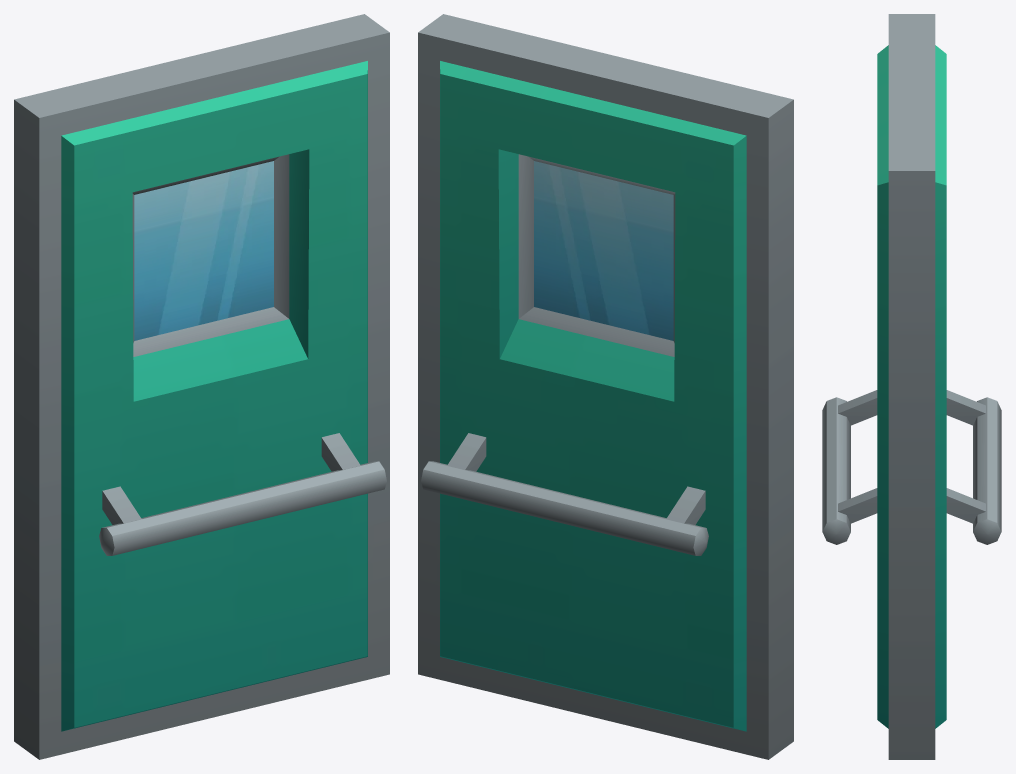
Rendered from cafe-door.glb.
3 renders of one model, left to right at view 1: azimuth 30°, elevation 25°; view 2: azimuth 150°, elevation 25°; view 3: azimuth 270°, elevation 25°, orthographic. The views are drawn at different scales.
Visible parts, largest first — view 1: door_A; view 2: door_A; view 3: door_A.
Boxes of the visible parts, <box> form: door_A: <box>14,14,389,759</box>; door_A: <box>418,14,793,759</box>; door_A: <box>822,14,1001,759</box>.
Bounding box in the file's own units: 52433 × 91748 × 25281.
1 material, 1 textured.
